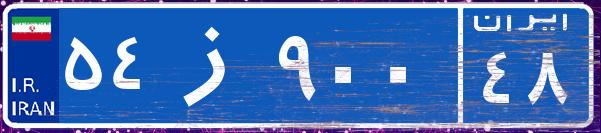0: (385, 28, 445, 110), (330, 28, 385, 110)
4: (475, 38, 525, 113), (110, 28, 158, 105)
5: (57, 26, 110, 107)
8: (525, 38, 570, 115)
9: (273, 28, 330, 110)
ز: (158, 15, 273, 115)
